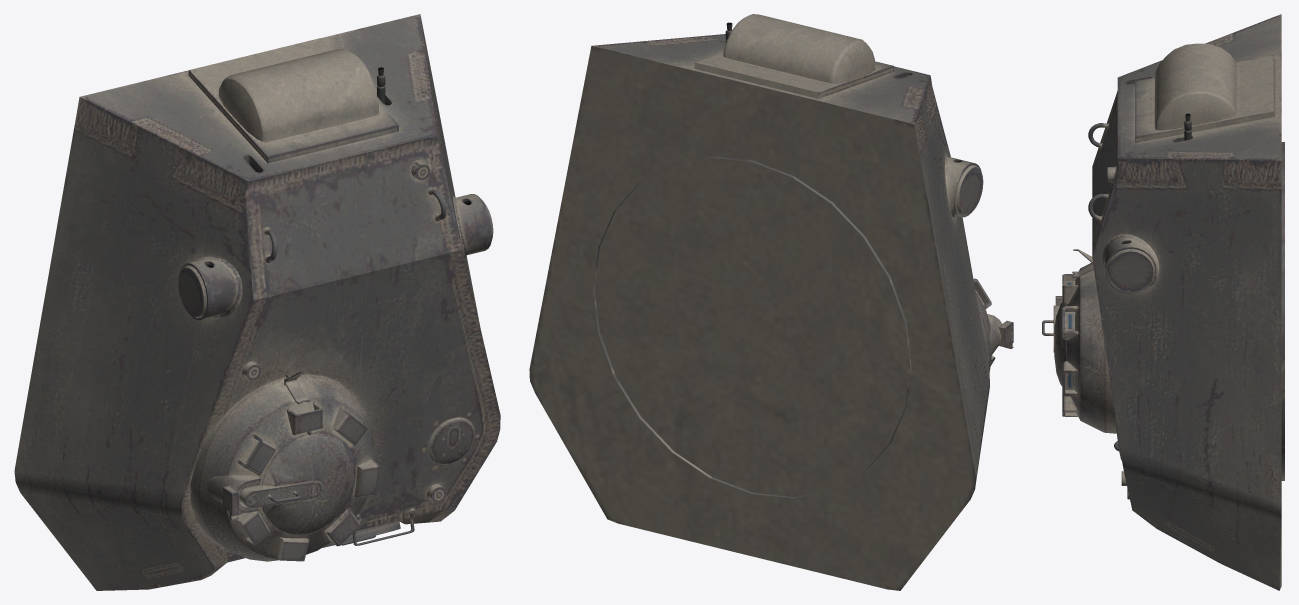
File: Turret_01.glb
3 renders of one model, left to right at view 1: azimuth 30°, elevation 25°; view 2: azimuth 150°, elevation 25°; view 3: azimuth 270°, elevation 25°, orthographic. The views are drawn at different scales.
Visible parts, largest first — view 1: set_0_group_0; view 2: set_0_group_0; view 3: set_0_group_0.
Part boxes in pixels (left/top/right/bottom): set_0_group_0: left=14, top=14, right=500, bottom=590; set_0_group_0: left=529, top=14, right=1013, bottom=590; set_0_group_0: left=1042, top=14, right=1284, bottom=590.
Bounding box in the file's own units: 2.43 × 2.56 × 1.23.
Materials: 1 (1 with a texture image).
